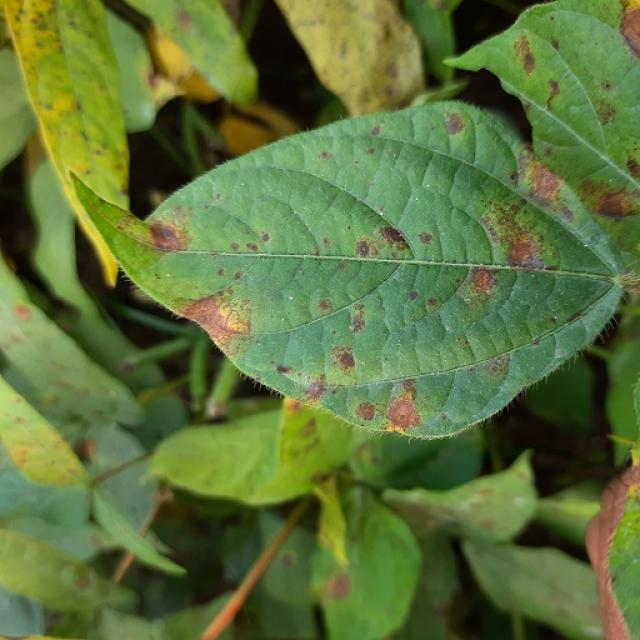Anthracnose: (480, 199, 554, 270), (576, 168, 636, 219), (149, 205, 209, 252), (382, 378, 429, 430), (352, 224, 413, 263), (521, 160, 567, 210), (459, 263, 509, 302), (455, 266, 500, 309), (215, 287, 253, 334), (223, 229, 270, 257), (620, 6, 640, 60), (513, 35, 535, 75), (48, 90, 76, 116), (330, 345, 355, 374), (326, 573, 351, 599), (593, 100, 617, 126), (380, 226, 407, 249), (444, 111, 465, 136), (350, 303, 367, 333), (485, 356, 508, 378), (304, 382, 326, 402), (545, 79, 560, 107), (356, 401, 376, 421), (300, 416, 317, 438), (13, 447, 31, 466), (13, 303, 32, 320), (625, 155, 640, 176), (565, 309, 586, 324), (177, 10, 191, 31), (355, 239, 371, 257), (384, 61, 399, 80), (75, 573, 91, 589), (280, 553, 295, 568), (418, 231, 433, 245), (318, 298, 331, 312), (339, 41, 348, 59), (551, 37, 561, 52), (276, 365, 292, 374), (370, 124, 381, 136), (426, 297, 437, 308), (408, 290, 419, 301), (337, 261, 348, 271), (602, 80, 613, 90), (230, 242, 240, 252), (14, 416, 25, 425), (233, 271, 243, 280), (261, 233, 270, 243), (216, 268, 225, 277), (320, 151, 330, 159), (214, 192, 222, 200)
Blackgram: (74, 102, 624, 438)
